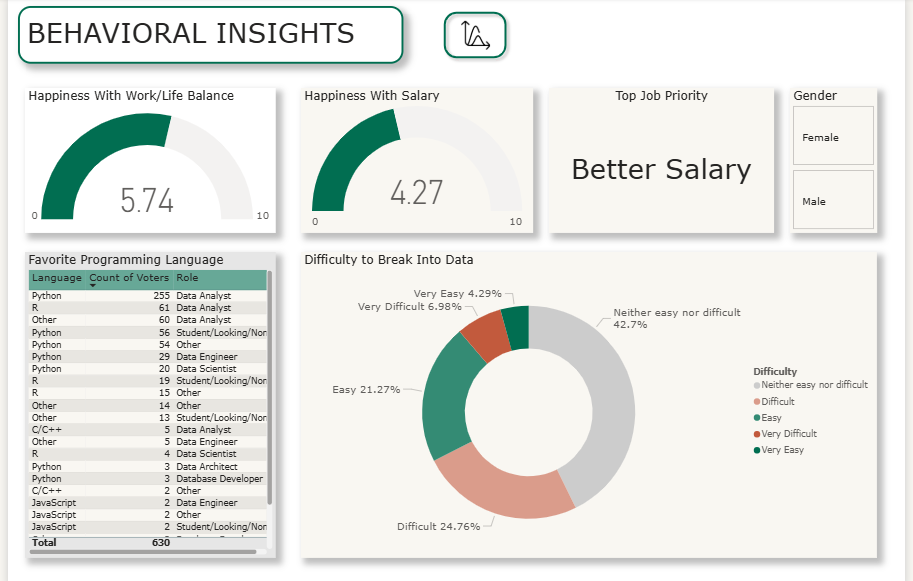

What the dashboard file says about the page in this screenshot:
{"tool":"powerbi","page":{"name":"Page 2","canvas":[1400,920],"ordinal":1},"visuals":[{"type":"textbox","box":[15.3,11.9,601.4,90.3],"z":0},{"type":"tableEx","title":"Favorite Programming Language","fields":{"Values":["Data Professional Survey.Q5 - Favorite Programming Language.1","CountNonNull(Data Professional Survey.Unique ID)","Data Professional Survey.Q1 - Which Title Best Fits your Current Role?.1"]},"box":[26.9,396.2,390.8,476.8],"z":1000},{"type":"gauge","title":"Happiness With Work/Life Balance","fields":{"Y":["Avg(Data Professional Survey.Q6 - How Happy are you in your Current Position with the following? (Work/Life Balance))"],"MinValue":["Min(Data Professional Survey.Q6 - How Happy are you in your Current Position with the following? (Work/Life Balance))1"],"MaxValue":["Max(Data Professional Survey.Q6 - How Happy are you in your Current Position with the following? (Work/Life Balance))2"]},"box":[26.9,139.8,390.8,225.9],"z":2000},{"type":"donutChart","title":"Difficulty to Break Into Data","fields":{"Category":["Data Professional Survey.Q7 - How difficult was it for you to break into Data?"],"Y":["CountNonNull(Data Professional Survey.Average Salary)"]},"box":[457.1,396.2,898.1,476.8],"z":3000},{"type":"advancedSlicerVisual","title":"Gender","fields":{"Values":["Data Professional Survey.Q9 - Male/Female?"]},"box":[1219,139.8,136.2,225.9],"z":4000},{"type":"gauge","title":"Happiness With Salary","fields":{"Y":["Avg(Data Professional Survey.Q6 - How Happy are you in your Current Position with the following? (Salary))"],"MinValue":["Min(Data Professional Survey.Q6 - How Happy are you in your Current Position with the following? (Salary))"],"MaxValue":["Max(Data Professional Survey.Q6 - How Happy are you in your Current Position with the following? (Salary))"]},"box":[457.1,139.8,362.1,225.9],"z":5000},{"type":"card","title":"Top Job Priority ","fields":{"Values":["Data Professional Survey.Top Job Priority"]},"box":[844.3,139.8,351.3,225.9],"z":6000},{"type":"actionButton","box":[671.3,11.9,115.9,90.3],"z":7000},{"type":"image","box":[701.9,29,54.5,56.2],"z":8000}]}

Visuals, with their boxes on the page's 1400x920 design canvas (x1, y1, x2, y2). These are canvas units, not pixel positions in the 913x581 screenshot, which may show the page scaled, cropped or inside an application window:
textbox: {"left": 15, "top": 12, "right": 617, "bottom": 102}
"Favorite Programming Language" tableEx: {"left": 27, "top": 396, "right": 418, "bottom": 873}
"Happiness With Work/Life Balance" gauge: {"left": 27, "top": 140, "right": 418, "bottom": 366}
"Difficulty to Break Into Data" donutChart: {"left": 457, "top": 396, "right": 1355, "bottom": 873}
"Gender" advancedSlicerVisual: {"left": 1219, "top": 140, "right": 1355, "bottom": 366}
"Happiness With Salary" gauge: {"left": 457, "top": 140, "right": 819, "bottom": 366}
"Top Job Priority " card: {"left": 844, "top": 140, "right": 1196, "bottom": 366}
actionButton: {"left": 671, "top": 12, "right": 787, "bottom": 102}
image: {"left": 702, "top": 29, "right": 756, "bottom": 85}
